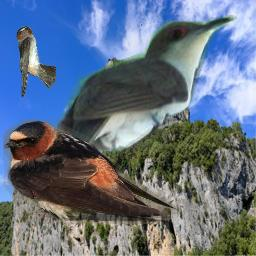Cuckoo: (41, 15, 238, 192)
Swallow: (3, 119, 180, 224), (16, 26, 56, 99)
